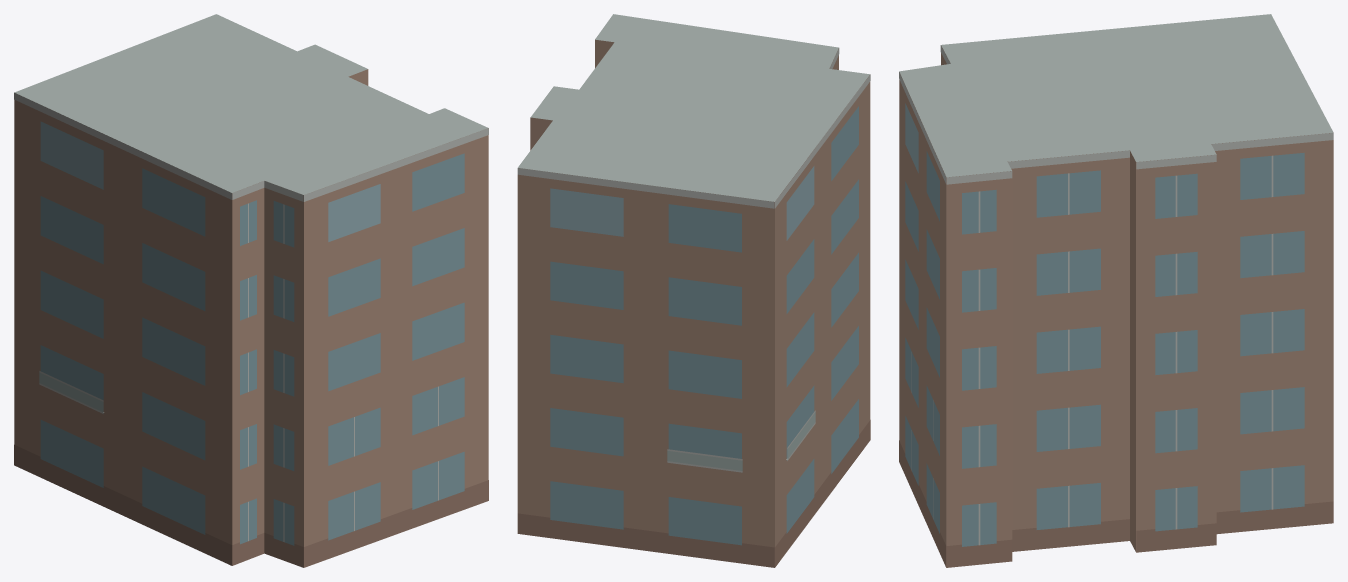
The model's file is survey-upis-32718032.glb.
3 views of the same model, side by side, from view 1: azimuth 30°, elevation 25°; view 2: azimuth 150°, elevation 25°; view 3: azimuth 270°, elevation 25° (orthographic). The views are drawn at different scales.
Visible parts, largest first — view 1: survey-upis-32718032.tmp; view 2: survey-upis-32718032.tmp; view 3: survey-upis-32718032.tmp.
Boxes of the visible parts, bbox=[...] form: survey-upis-32718032.tmp: bbox=[14, 14, 488, 567]; survey-upis-32718032.tmp: bbox=[517, 14, 870, 567]; survey-upis-32718032.tmp: bbox=[899, 14, 1333, 567].
Bounding box in the file's own units: 11.67 × 13 × 13.12.
